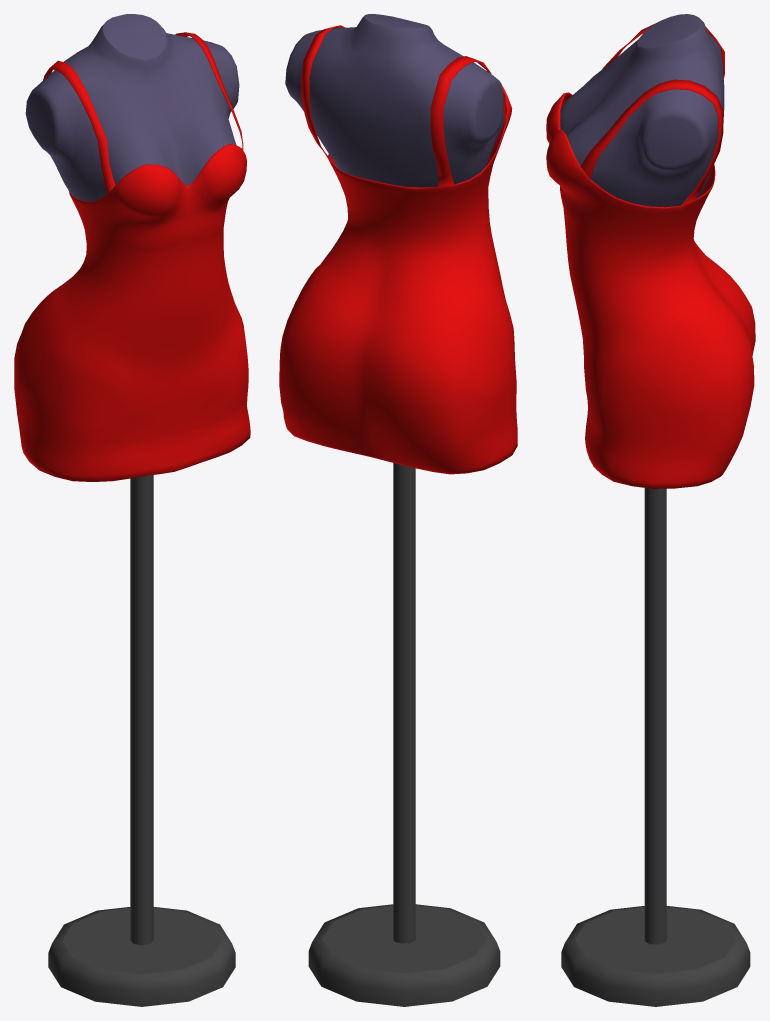
The model's file is Dress_2.fbx.
3 renders of one model, left to right at view 1: azimuth 30°, elevation 25°; view 2: azimuth 150°, elevation 25°; view 3: azimuth 270°, elevation 25°, orthographic. The views are drawn at different scales.
Parts seen in each view (by area): view 1: dress_1, dummy_1; view 2: dress_1, dummy_1; view 3: dress_1, dummy_1.
Part boxes in pixels (x1,y1,x2,y2): dress_1: [14, 32, 250, 481]; dummy_1: [25, 14, 239, 1006]; dress_1: [279, 25, 517, 474]; dummy_1: [285, 14, 504, 1006]; dress_1: [546, 23, 755, 488]; dummy_1: [560, 14, 750, 1006].
Bounding box in the file's own units: 0.3823 × 1.66 × 0.3342.
